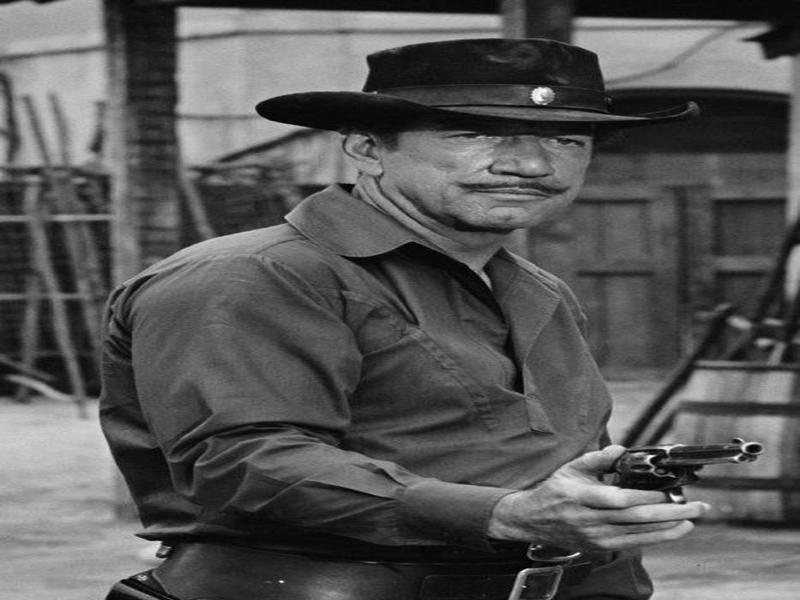Revolver: (601, 432, 773, 510)
